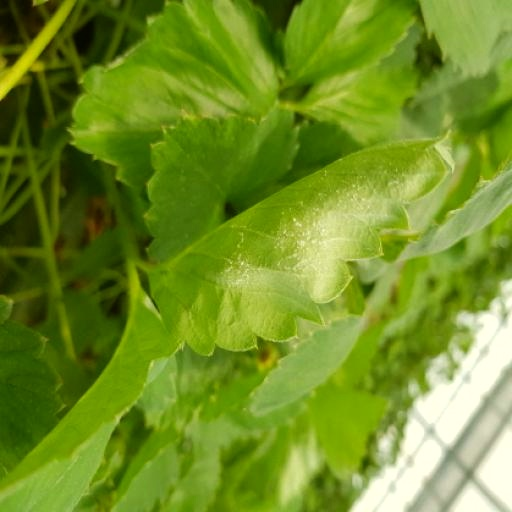Powdery Mildew Leaf: (57, 154, 366, 384)
